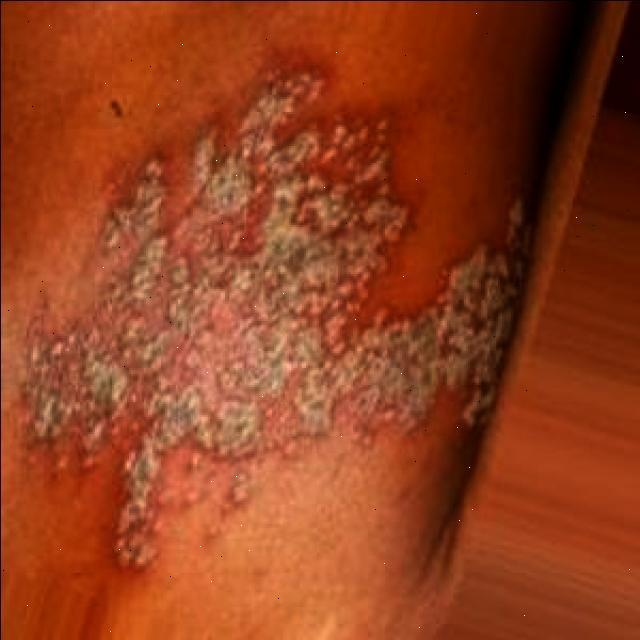Shingles: (25, 70, 512, 571)
